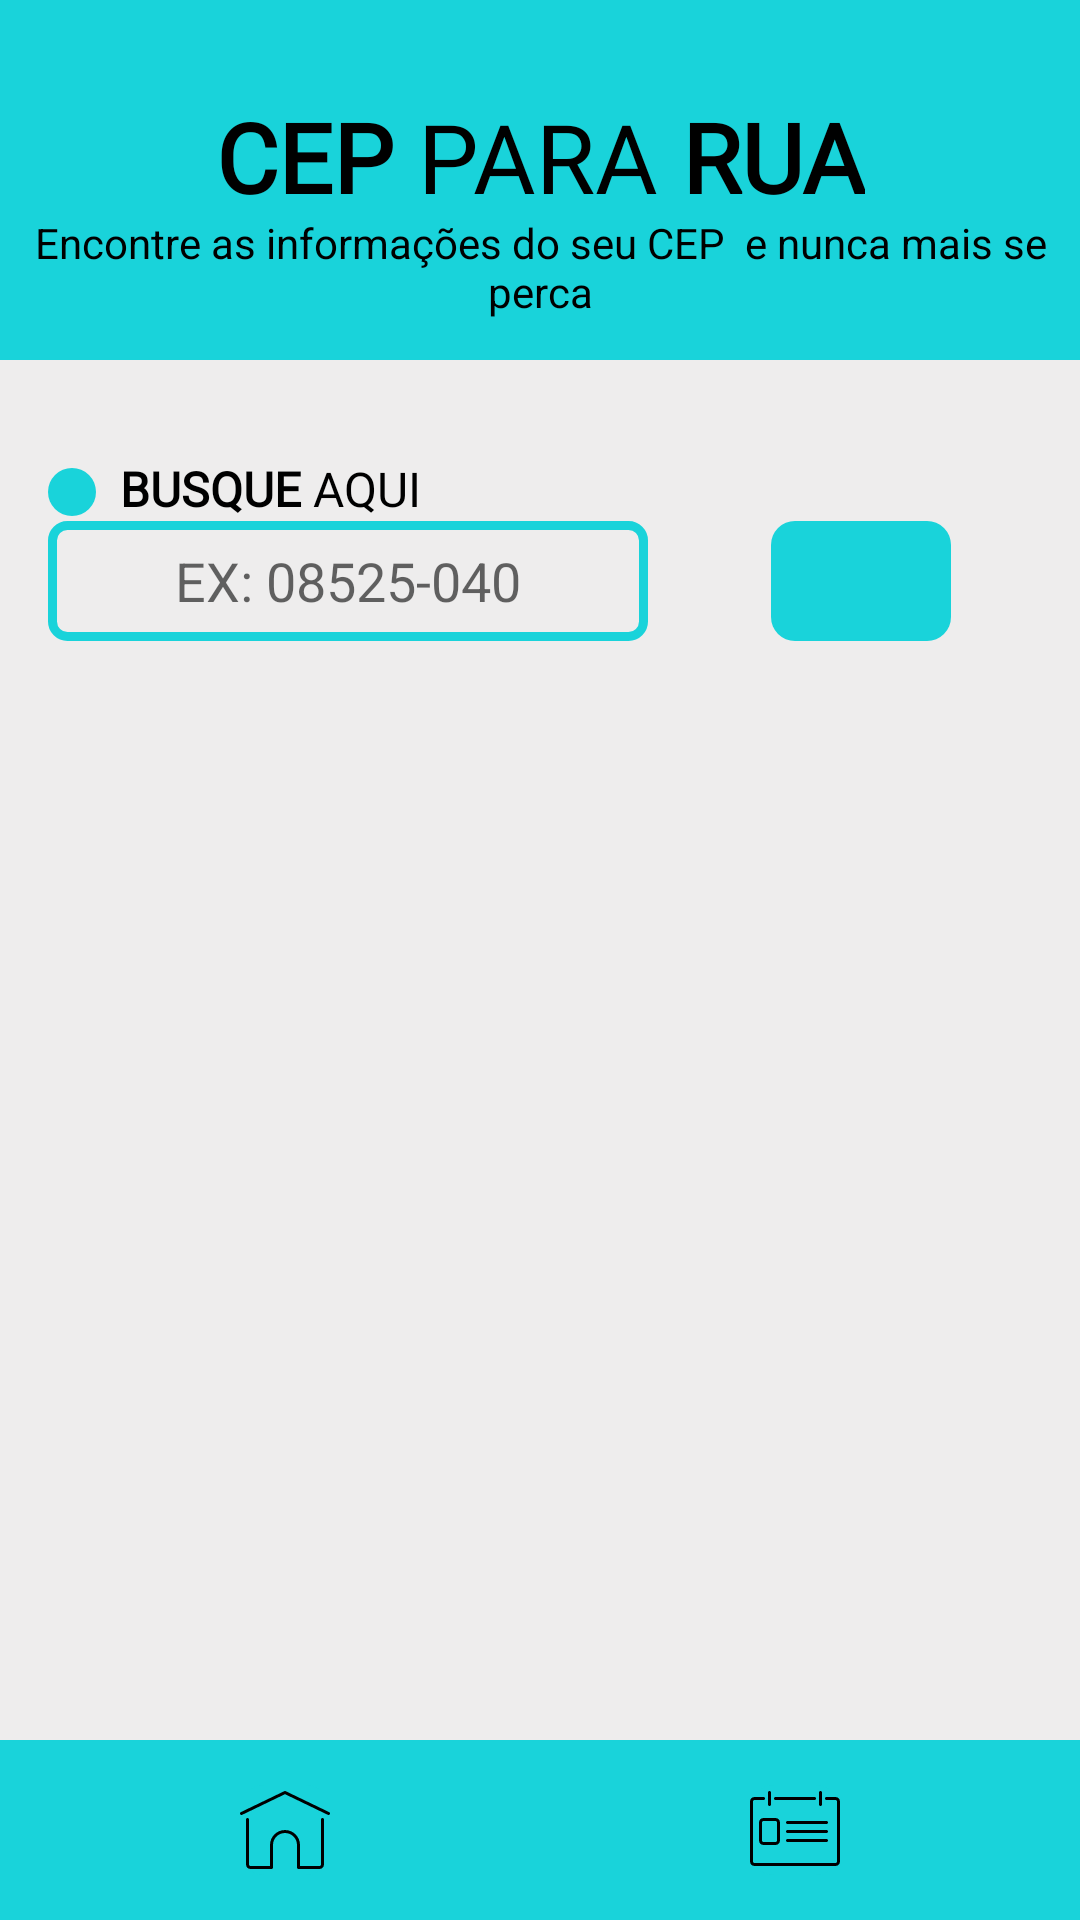

Icons on this 1080×1920 Android screen, each with the point to tap as point (x, y):
contactform: point (795, 1828)
home: point (285, 1830)
